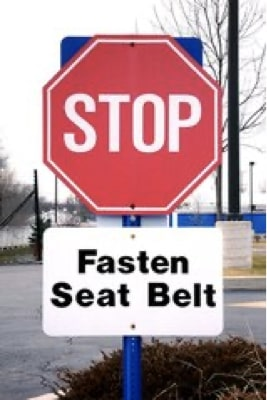StopSign: (39, 33, 226, 218)
